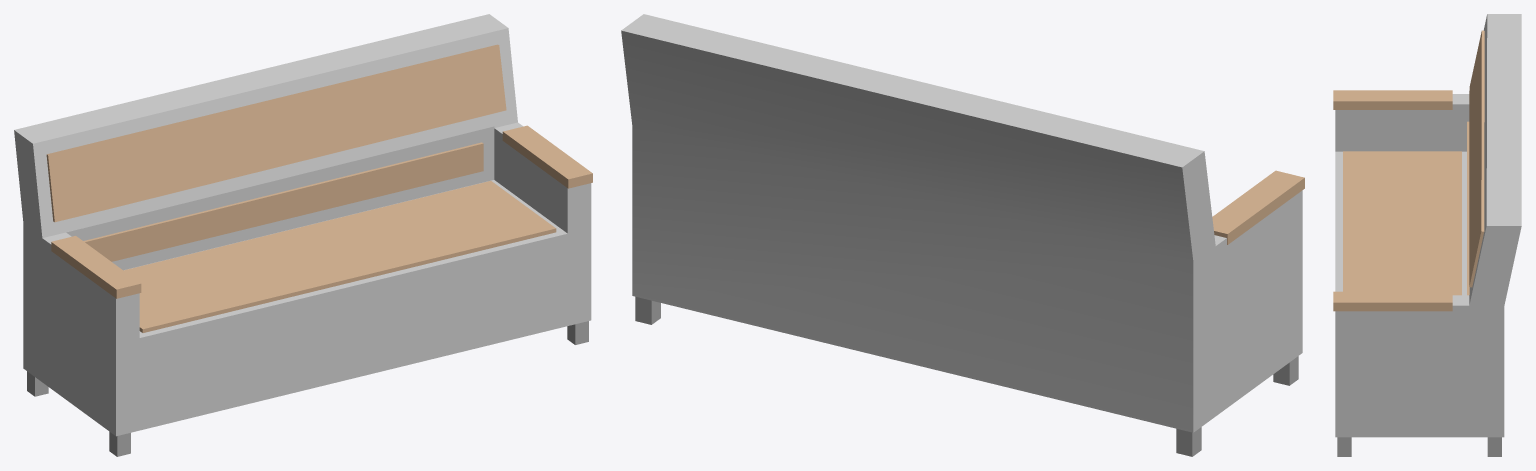
Rendered from sofa.fbx.
3 renders of one model, left to right at view 1: azimuth 30°, elevation 25°; view 2: azimuth 150°, elevation 25°; view 3: azimuth 270°, elevation 25°, orthographic. The views are drawn at different scales.
Parts seen in each view (by area): view 1: Cube_1; view 2: Cube_1; view 3: Cube_1.
Boxes of the visible parts, x1,y1,x2,y2 form: Cube_1: [14, 14, 592, 456]; Cube_1: [621, 14, 1304, 456]; Cube_1: [1333, 14, 1521, 456].
Size of the model in its own units: 75.69 by 38.52 by 28.4.
